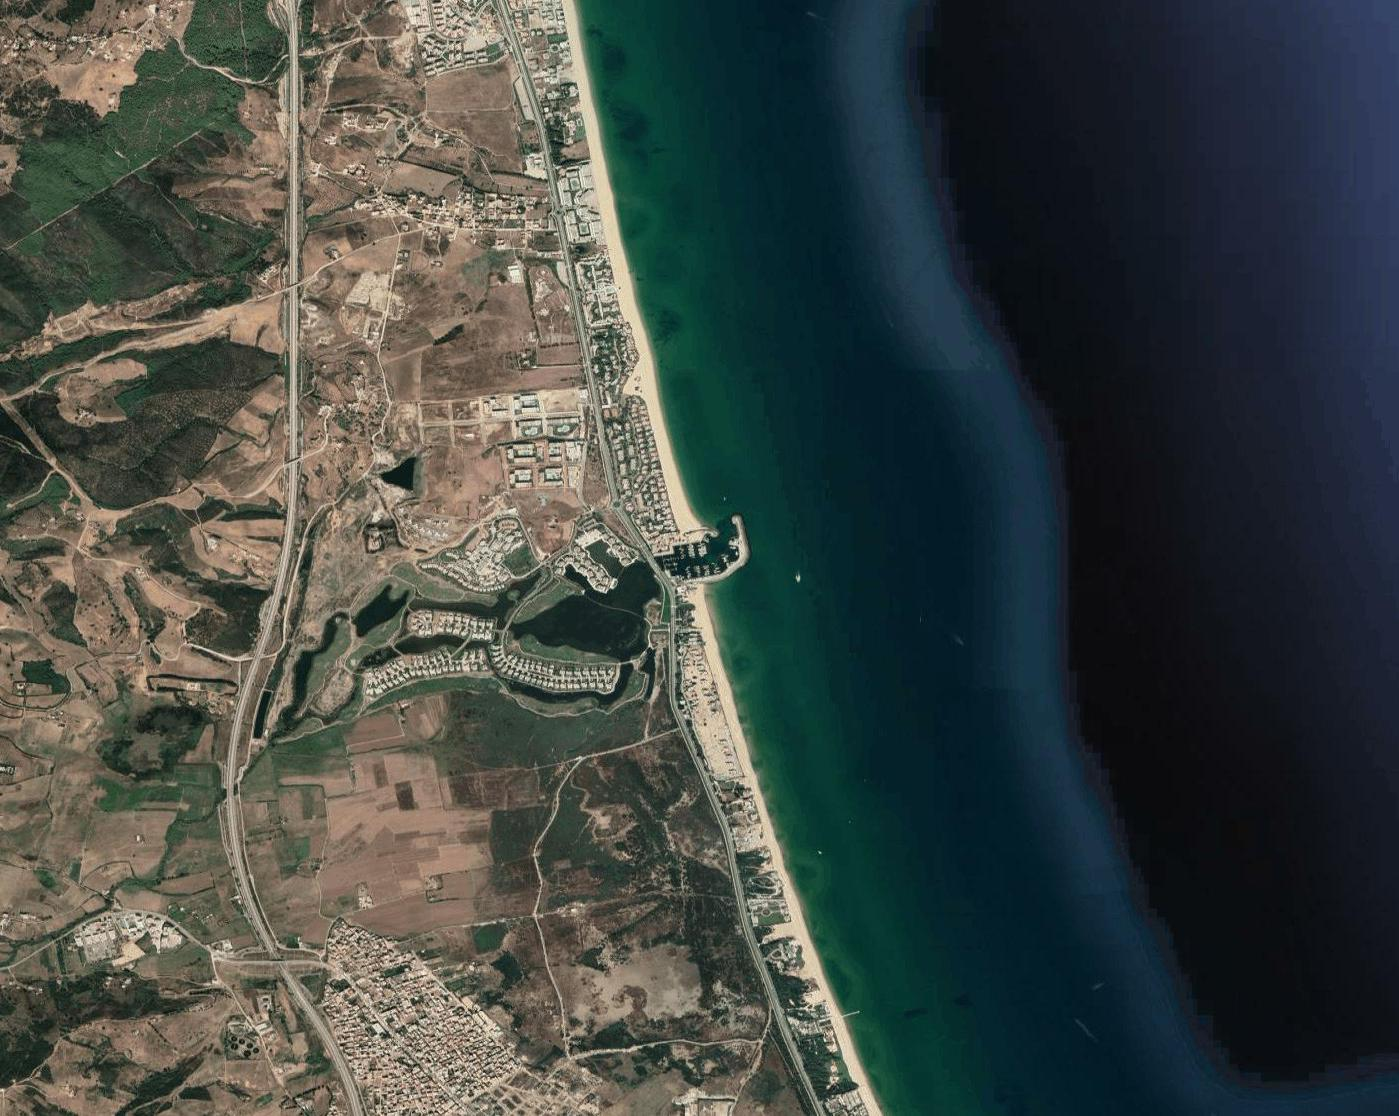harbor: (661, 517, 758, 589)
motorway: (295, 988, 362, 1116), (234, 578, 285, 714), (236, 880, 297, 988), (279, 1, 306, 202), (281, 202, 308, 402), (277, 399, 306, 581), (222, 709, 247, 883)
